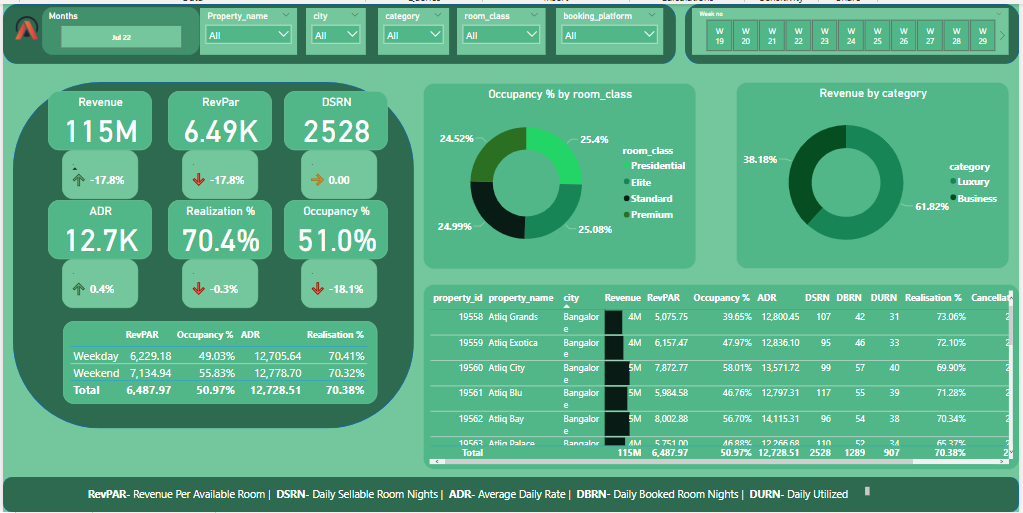

What the dashboard file says about the page in this screenshot:
{"tool":"powerbi","page":{"name":"Page 1","canvas":[1800,900],"ordinal":0},"visuals":[{"type":"shape","box":[17.4,137.4,710.3,613.5],"z":0},{"type":"shape","box":[1207.7,0,592.3,106.5],"z":1000},{"type":"shape","box":[0,0,1192.3,106.5],"z":2000},{"type":"slicer","title":"Months","fields":{"Values":["dim_date.mmm yy -"]},"box":[69.7,5.8,278.7,85.2],"z":3000},{"type":"slicer","fields":{"Values":["dim_hotels.property_name"]},"box":[348.4,7.7,172.3,83.2],"z":4000},{"type":"slicer","fields":{"Values":["dim_hotels.city"]},"box":[536.1,7.7,106.5,83.2],"z":5000},{"type":"slicer","fields":{"Values":["dim_hotels.category"]},"box":[663.9,7.7,125.8,83.2],"z":6000},{"type":"slicer","fields":{"Values":["dim_rooms.room_class"]},"box":[805.2,7.7,156.8,83.2],"z":7000},{"type":"slicer","fields":{"Values":["fact_bookings.booking_platform"]},"box":[979.4,7.7,189.7,83.2],"z":8000},{"type":"image","box":[0,7.7,79.4,69.7],"z":9000},{"type":"slicer","fields":{"Values":["dim_date.week no"]},"box":[1221.3,7.7,561.3,83.2],"z":10000},{"type":"card","title":"Revenue","fields":{"Values":["key_measures.Revenue"]},"box":[79.4,154.8,183.9,104.5],"z":11000},{"type":"card","title":"RevPar","fields":{"Values":["key_measures.RevPAR"]},"box":[292.3,154.8,183.9,104.5],"z":12000},{"type":"card","title":"DSRN","fields":{"Values":["key_measures.DSRN"]},"box":[497.4,154.8,183.9,104.5],"z":13000},{"type":"card","title":"ADR","fields":{"Values":["key_measures.ADR"]},"box":[79.4,346.5,183.9,104.5],"z":14000},{"type":"card","title":"Realization %","fields":{"Values":["key_measures.Realisation %"]},"box":[292.3,346.5,183.9,104.5],"z":15000},{"type":"card","title":"Occupancy %","fields":{"Values":["key_measures.Occupancy %"]},"box":[497.4,346.5,183.9,104.5],"z":16000},{"type":"tableEx","fields":{"Values":["key_measures.Revenue WoW change %"]},"box":[104.5,259.4,135.5,87.1],"z":17000},{"type":"tableEx","fields":{"Values":["key_measures.Revpar WoW change %"]},"box":[317.4,259.4,135.5,87.1],"z":18000},{"type":"tableEx","fields":{"Values":["key_measures.DSRN WoW change %"]},"box":[528.4,259.4,135.5,87.1],"z":19000},{"type":"tableEx","fields":{"Values":["key_measures.ADR WoW change %"]},"box":[104.5,451,135.5,87.1],"z":20000},{"type":"tableEx","fields":{"Values":["key_measures.Realisation WoW change %"]},"box":[317.4,451,135.5,87.1],"z":21000},{"type":"tableEx","fields":{"Values":["key_measures.Occupancy WoW change %"]},"box":[528.4,451,135.5,87.1],"z":22000},{"type":"donutChart","fields":{"Y":["key_measures.Revenue"],"Category":["dim_hotels.category"]},"box":[1298.7,137.4,483.9,331],"z":23000},{"type":"donutChart","fields":{"Category":["dim_rooms.room_class"],"Y":["key_measures.Occupancy %"]},"box":[744.1,140,483.7,329.5],"z":24000},{"type":"tableEx","fields":{"Values":["dim_date.day_type","key_measures.RevPAR","key_measures.Occupancy %","key_measures.ADR","key_measures.Realisation %"]},"box":[106.5,561.3,557.4,147.1],"z":25000},{"type":"tableEx","fields":{"Values":["dim_hotels.property_id","dim_hotels.property_name","dim_hotels.city","key_measures.Revenue","key_measures.RevPAR","key_measures.Occupancy %","key_measures.ADR","key_measures.DSRN","key_measures.DBRN","key_measures.DURN","key_measures.Realisation %","key_measures.Cancellation %"]},"box":[743.2,495.5,1056.8,329],"z":26000},{"type":"shape","box":[0,838,1800,62],"z":27000},{"type":"textbox","box":[145.2,849.7,1395.5,36.8],"z":28000}]}

Visuals, with their boxes in screenshot pixels (x1, y1, x2, y2), scaled from the page's 1800x900 canvas onto the 1023x513 screenshot:
shape: box=[10, 78, 414, 428]
shape: box=[686, 0, 1022, 61]
shape: box=[0, 0, 678, 61]
"Months" slicer: box=[40, 3, 198, 52]
slicer - dim_hotels.property_name: box=[198, 4, 296, 52]
slicer - dim_hotels.city: box=[305, 4, 365, 52]
slicer - dim_hotels.category: box=[377, 4, 449, 52]
slicer - dim_rooms.room_class: box=[458, 4, 547, 52]
slicer - fact_bookings.booking_platform: box=[557, 4, 664, 52]
image: box=[0, 4, 45, 44]
slicer - dim_date.week no: box=[694, 4, 1013, 52]
"Revenue" card: box=[45, 88, 150, 148]
"RevPar" card: box=[166, 88, 271, 148]
"DSRN" card: box=[283, 88, 387, 148]
"ADR" card: box=[45, 198, 150, 257]
"Realization %" card: box=[166, 198, 271, 257]
"Occupancy %" card: box=[283, 198, 387, 257]
tableEx - key_measures.Revenue WoW change %: box=[59, 148, 136, 198]
tableEx - key_measures.Revpar WoW change %: box=[180, 148, 257, 198]
tableEx - key_measures.DSRN WoW change %: box=[300, 148, 377, 198]
tableEx - key_measures.ADR WoW change %: box=[59, 257, 136, 307]
tableEx - key_measures.Realisation WoW change %: box=[180, 257, 257, 307]
tableEx - key_measures.Occupancy WoW change %: box=[300, 257, 377, 307]
donutChart - key_measures.Revenue x dim_hotels.category: box=[738, 78, 1013, 267]
donutChart - dim_rooms.room_class x key_measures.Occupancy %: box=[423, 80, 698, 268]
tableEx - dim_date.day_type x key_measures.RevPAR: box=[61, 320, 377, 404]
tableEx - dim_hotels.property_id x dim_hotels.property_name: box=[422, 282, 1022, 470]
shape: box=[0, 478, 1022, 512]
textbox: box=[83, 484, 876, 505]
